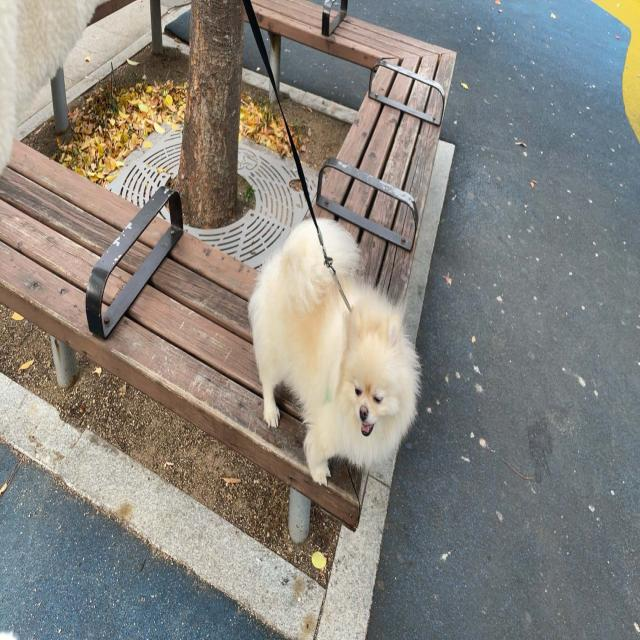Dog: (249, 218, 422, 484)
